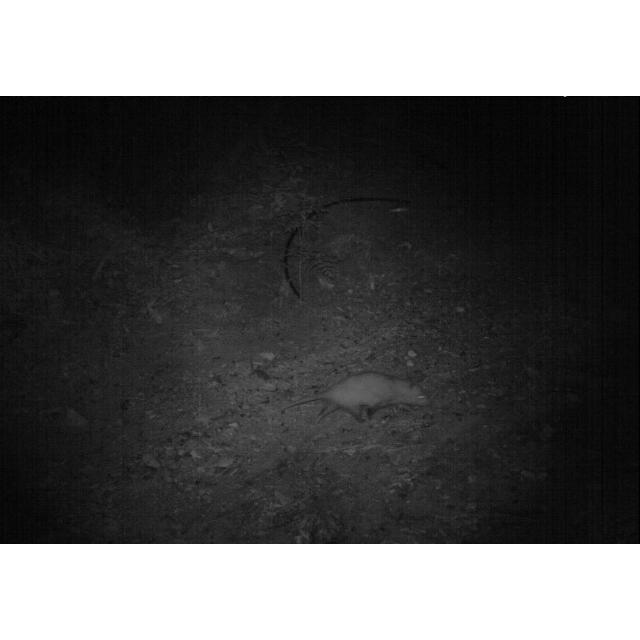animals: (283, 371, 429, 421)
